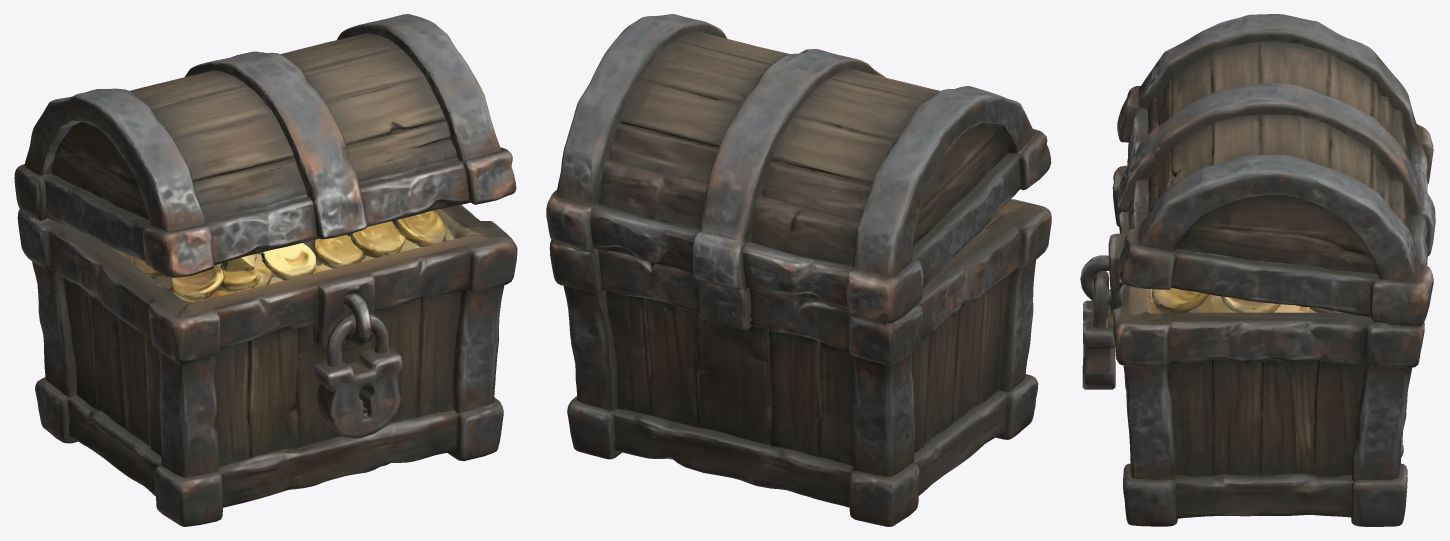
File: treasure-chest.glb
3 renders of one model, left to right at view 1: azimuth 30°, elevation 25°; view 2: azimuth 150°, elevation 25°; view 3: azimuth 270°, elevation 25°, orthographic. The views are drawn at different scales.
Parts seen in each view (by area): view 1: geometry_0; view 2: geometry_0; view 3: geometry_0.
Boxes of the visible parts, <box> form: geometry_0: <box>14,14,517,526</box>; geometry_0: <box>546,14,1051,526</box>; geometry_0: <box>1080,14,1435,526</box>.
Bounding box in the file's own units: 0.45 × 0.4547 × 0.4045.
Materials: 1 (1 with a texture image).
